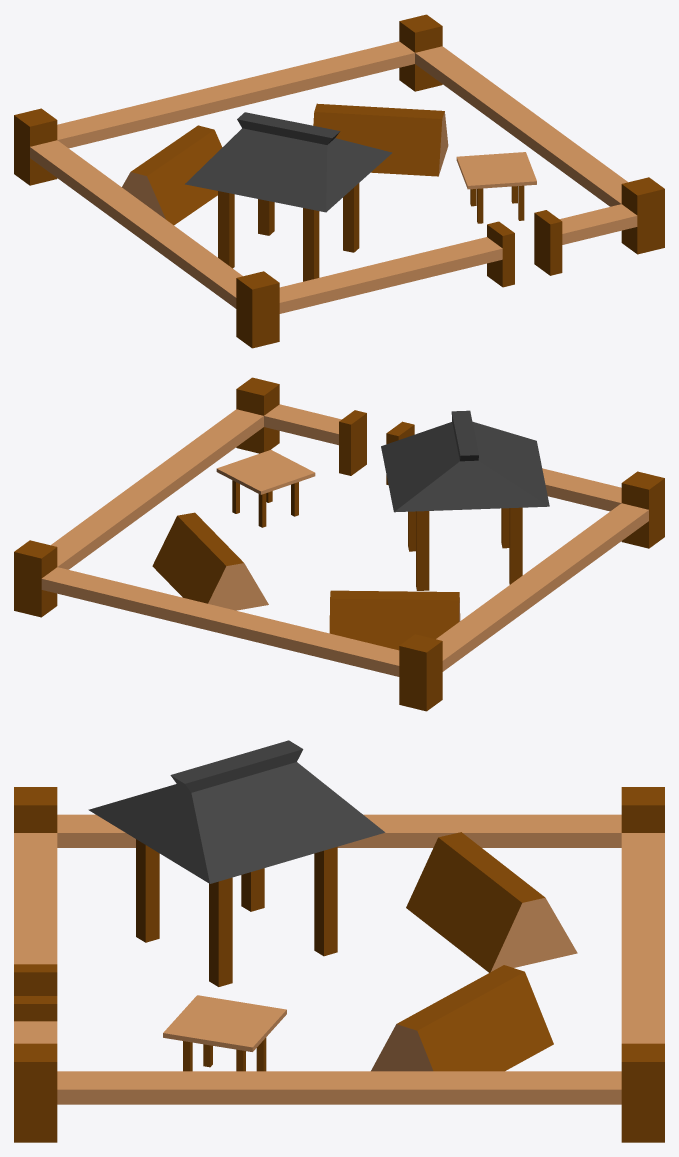
File: WorkHouse.obj
The picture shows the model from 3 angles, top to bottom: view 1: azimuth 30°, elevation 25°; view 2: azimuth 150°, elevation 25°; view 3: azimuth 270°, elevation 25°; orthographic projection. The views are drawn at different scales.
Parts seen in each view (by area): view 1: Plane; view 2: Plane; view 3: Plane.
Part boxes in pixels (x1,y1,x2,y2): Plane: (14, 14, 664, 348); Plane: (14, 377, 664, 711); Plane: (14, 740, 664, 1142).
Bounding box in the file's own units: 2 × 0.6245 × 2.
1 material, 1 textured.
